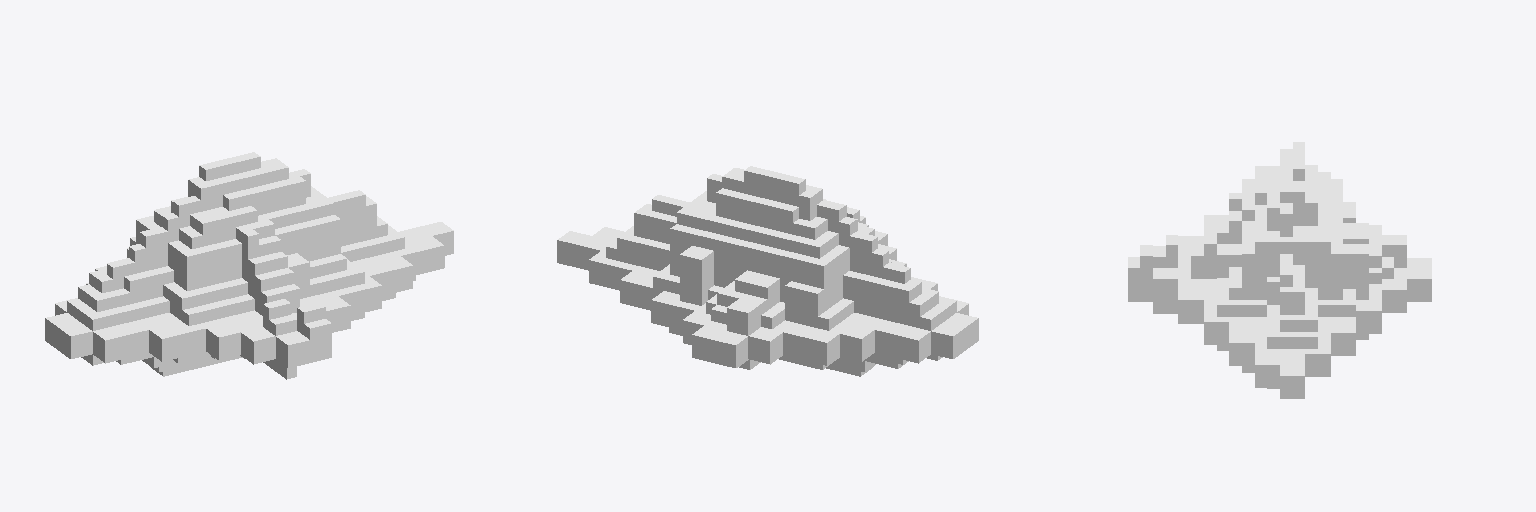
File: ice_land5.obj
3 views of the same model, side by side, from view 1: azimuth 30°, elevation 25°; view 2: azimuth 150°, elevation 25°; view 3: azimuth 270°, elevation 25° (orthographic).
Parts seen in each view (by area): view 1: object 1; view 2: object 1; view 3: object 1.
Part boxes in pixels (bbox=[...]): object 1: bbox=[45, 152, 453, 379]; object 1: bbox=[557, 166, 978, 376]; object 1: bbox=[1128, 142, 1431, 398].
Size of the model in its own units: 3.6 by 1.6 by 2.4.